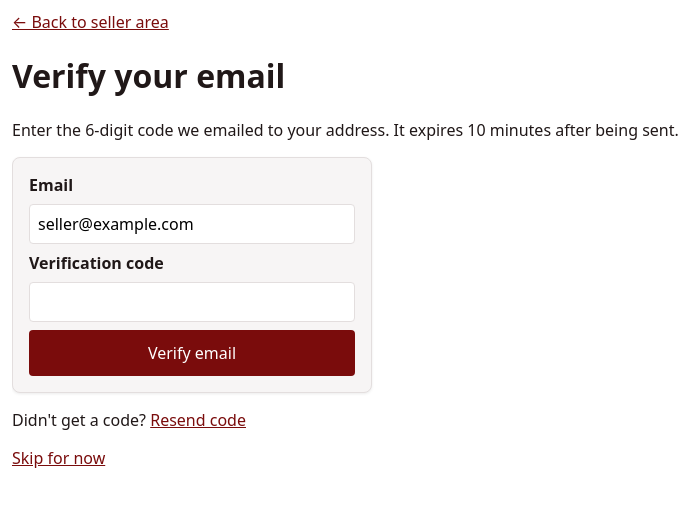
VerifyEmail › shows the backend's message when the code is wrong or expired
Type "000000" into the field labelled "Verification code".
click(192, 302); type("000000")  # box [29,282,355,322]
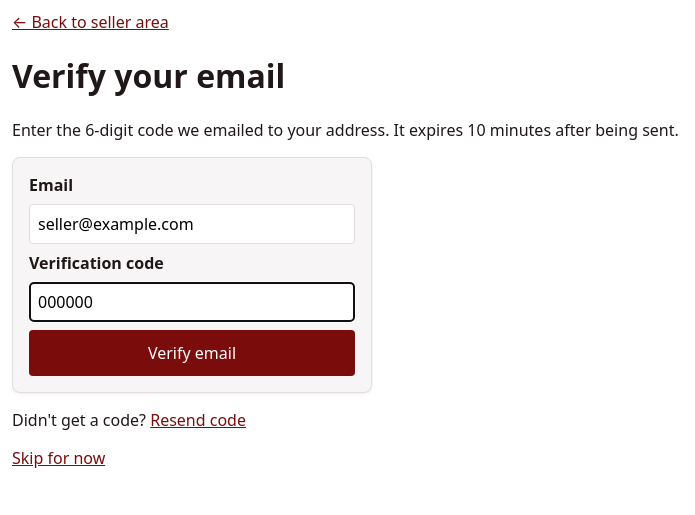
Click the button "Verify email".
click(192, 353)  # box [29,330,355,376]
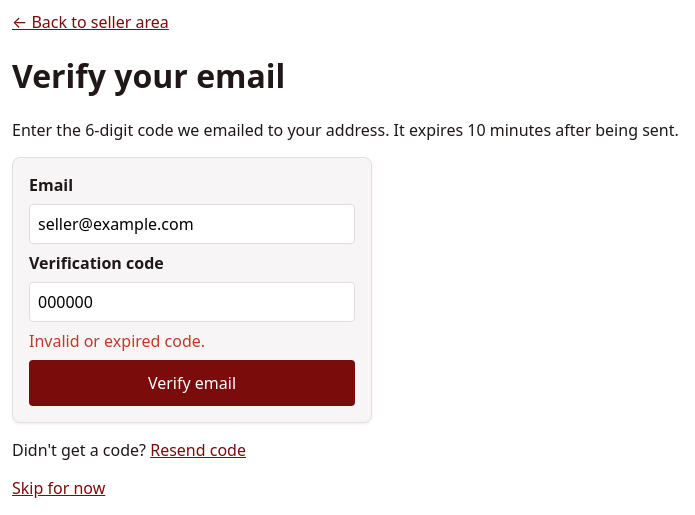
expect the message reads "Invalid or expired code.": met, box [29,330,205,352]
